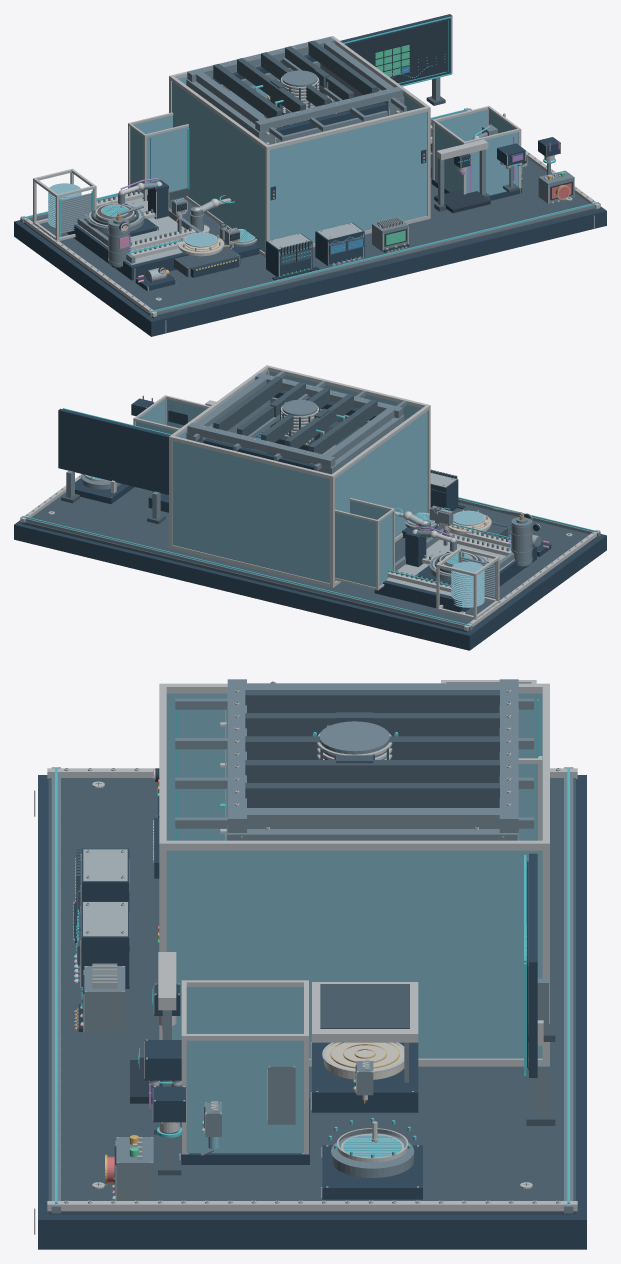
The model's file is Level74_Complete_ArtKit_Showcase.glb.
The picture shows the model from 3 angles, top to bottom: view 1: azimuth 30°, elevation 25°; view 2: azimuth 150°, elevation 25°; view 3: azimuth 270°, elevation 25°; orthographic projection. The views are drawn at different scales.
Parts seen in each view (by area): view 1: Level74_Complete_ArtKit_Showcase_Node_0234, Level74_Complete_ArtKit_Showcase_Node_0020, Level74_Complete_ArtKit_Showcase_Node_0000, Level74_Complete_ArtKit_Showcase_Node_0235, Level74_Complete_ArtKit_Showcase_Node_4007, Level74_Complete_ArtKit_Showcase_Node_1269, Level74_Complete_ArtKit_Showcase_Node_0023, Level74_Complete_ArtKit_Showcase_Node_3313, Level74_Complete_ArtKit_Showcase_Node_1032, Level74_Complete_ArtKit_Showcase_Node_0257, Level74_Complete_ArtKit_Showcase_Node_1071, Level74_Complete_ArtKit_Showcase_Node_1067 (+34 smaller); view 2: Level74_Complete_ArtKit_Showcase_Node_0233, Level74_Complete_ArtKit_Showcase_Node_0020, Level74_Complete_ArtKit_Showcase_Node_0000, Level74_Complete_ArtKit_Showcase_Node_3951, Level74_Complete_ArtKit_Showcase_Node_0235, Level74_Complete_ArtKit_Showcase_Node_1268, Level74_Complete_ArtKit_Showcase_Node_0021, Level74_Complete_ArtKit_Showcase_Node_1001, Level74_Complete_ArtKit_Showcase_Node_0257, Level74_Complete_ArtKit_Showcase_Node_1067, Level74_Complete_ArtKit_Showcase_Node_1071, Level74_Complete_ArtKit_Showcase_Node_0264 (+31 smaller); view 3: Level74_Complete_ArtKit_Showcase_Node_0020, Level74_Complete_ArtKit_Showcase_Node_0236, Level74_Complete_ArtKit_Showcase_Node_0000, Level74_Complete_ArtKit_Showcase_Node_3315, Level74_Complete_ArtKit_Showcase_Node_0235, Level74_Complete_ArtKit_Showcase_Node_1071, Level74_Complete_ArtKit_Showcase_Node_1067, Level74_Complete_ArtKit_Showcase_Node_1070, Level74_Complete_ArtKit_Showcase_Node_3314, Level74_Complete_ArtKit_Showcase_Node_0092, Level74_Complete_ArtKit_Showcase_Node_1064, Level74_Complete_ArtKit_Showcase_Node_1068 (+46 smaller).
Part boxes in pixels (x1,y1,x2,y2): Level74_Complete_ArtKit_Showcase_Node_0234: [270, 112, 426, 243]; Level74_Complete_ArtKit_Showcase_Node_0020: [23, 122, 598, 318]; Level74_Complete_ArtKit_Showcase_Node_0000: [14, 206, 606, 336]; Level74_Complete_ArtKit_Showcase_Node_0235: [172, 81, 264, 252]; Level74_Complete_ArtKit_Showcase_Node_4007: [345, 19, 448, 83]; Level74_Complete_ArtKit_Showcase_Node_1269: [146, 127, 188, 199]; Level74_Complete_ArtKit_Showcase_Node_0023: [148, 202, 600, 316]; Level74_Complete_ArtKit_Showcase_Node_3313: [466, 132, 518, 195]; Level74_Complete_ArtKit_Showcase_Node_1032: [255, 86, 403, 131]; Level74_Complete_ArtKit_Showcase_Node_0257: [67, 224, 188, 280]; Level74_Complete_ArtKit_Showcase_Node_1071: [308, 40, 377, 94]; Level74_Complete_ArtKit_Showcase_Node_1067: [213, 63, 282, 118]; Level74_Complete_ArtKit_Showcase_Node_0233: [172, 441, 329, 583]; Level74_Complete_ArtKit_Showcase_Node_0020: [22, 487, 596, 632]; Level74_Complete_ArtKit_Showcase_Node_0000: [14, 520, 606, 650]; Level74_Complete_ArtKit_Showcase_Node_3951: [58, 408, 170, 494]; Level74_Complete_ArtKit_Showcase_Node_0235: [335, 411, 427, 581]; Level74_Complete_ArtKit_Showcase_Node_1268: [335, 512, 376, 587]; Level74_Complete_ArtKit_Showcase_Node_0021: [20, 516, 472, 630]; Level74_Complete_ArtKit_Showcase_Node_1001: [187, 422, 335, 467]; Level74_Complete_ArtKit_Showcase_Node_0257: [374, 534, 536, 612]; Level74_Complete_ArtKit_Showcase_Node_1067: [308, 399, 377, 454]; Level74_Complete_ArtKit_Showcase_Node_1071: [213, 376, 282, 430]; Level74_Complete_ArtKit_Showcase_Node_0264: [385, 533, 514, 596]; Level74_Complete_ArtKit_Showcase_Node_0020: [48, 778, 575, 1214]; Level74_Complete_ArtKit_Showcase_Node_0236: [166, 850, 542, 1058]; Level74_Complete_ArtKit_Showcase_Node_0000: [38, 775, 586, 1249]; Level74_Complete_ArtKit_Showcase_Node_3315: [186, 1040, 303, 1153]; Level74_Complete_ArtKit_Showcase_Node_0235: [166, 693, 542, 840]; Level74_Complete_ArtKit_Showcase_Node_1071: [245, 783, 499, 807]; Level74_Complete_ArtKit_Showcase_Node_1067: [245, 690, 499, 712]; Level74_Complete_ArtKit_Showcase_Node_1070: [245, 760, 499, 782]; Level74_Complete_ArtKit_Showcase_Node_3314: [186, 987, 303, 1033]; Level74_Complete_ArtKit_Showcase_Node_0092: [47, 1201, 577, 1211]; Level74_Complete_ArtKit_Showcase_Node_1064: [238, 808, 499, 828]; Level74_Complete_ArtKit_Showcase_Node_1068: [245, 713, 499, 736].
Size of the model in its own units: 18.2 by 5.78 by 9.57.
